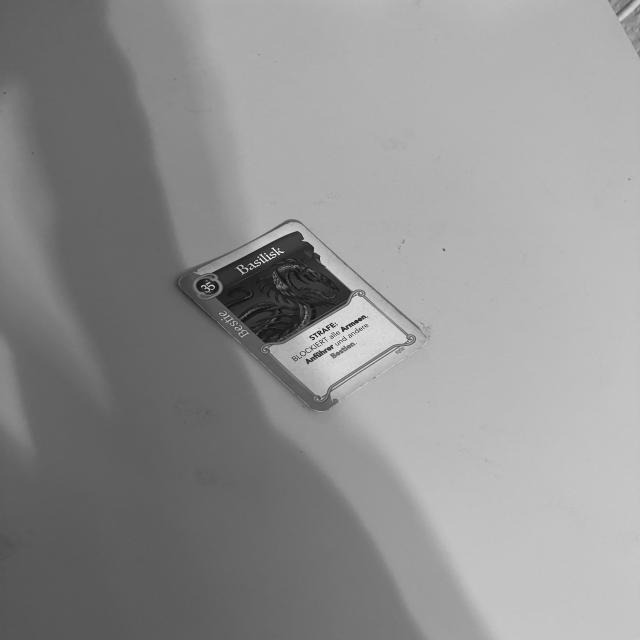Basilisk: (176, 217, 435, 417)
